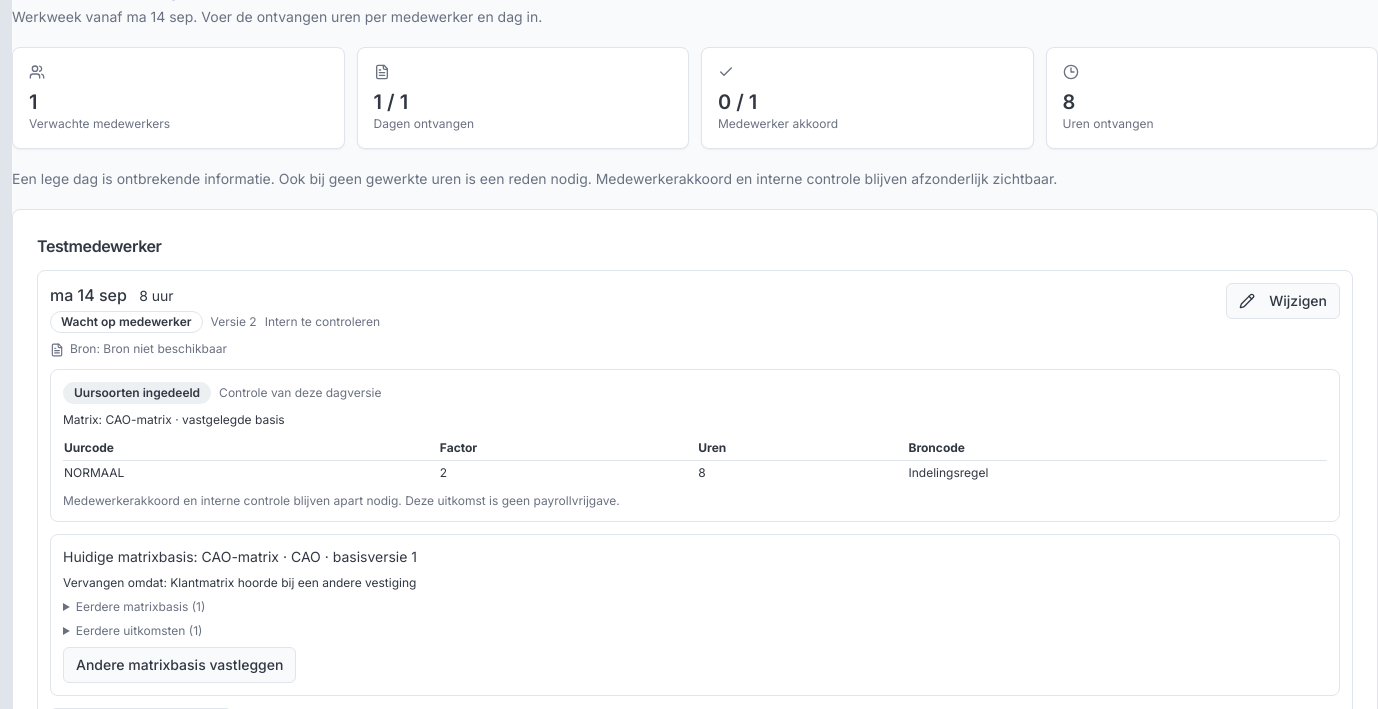
replacing the basis › lets the confirmation be closed again instead of blocking the panel
Click the button "Andere matrixbasis vastleggen" at (180, 665), box [63,647,296,683]
(page scrolled)
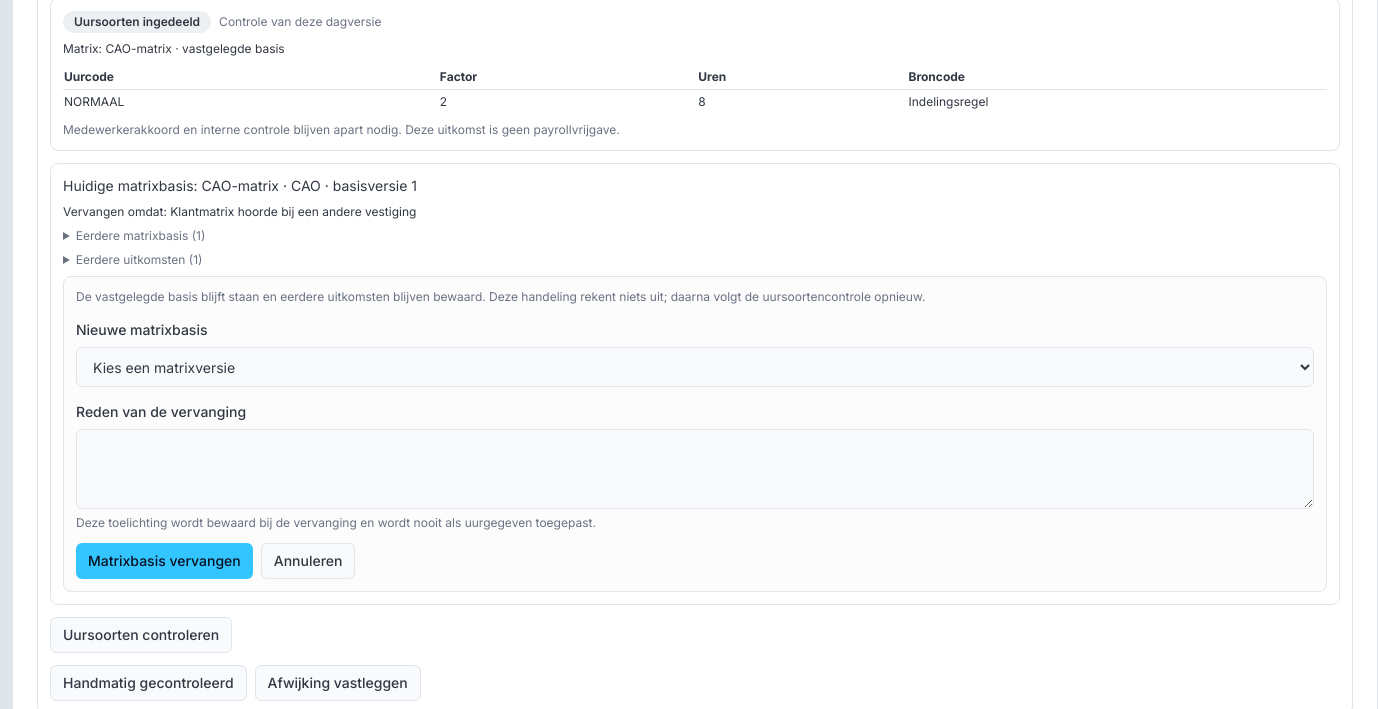
expect the dropdown labelled "Nieuwe matrixbasis" is shown: met
Select "Klantmatrix · klantmatrix · vanaf 2026-01-01" in the dropdown labelled "Nieuwe matrixbasis" at (695, 367), box [76,347,1314,387]
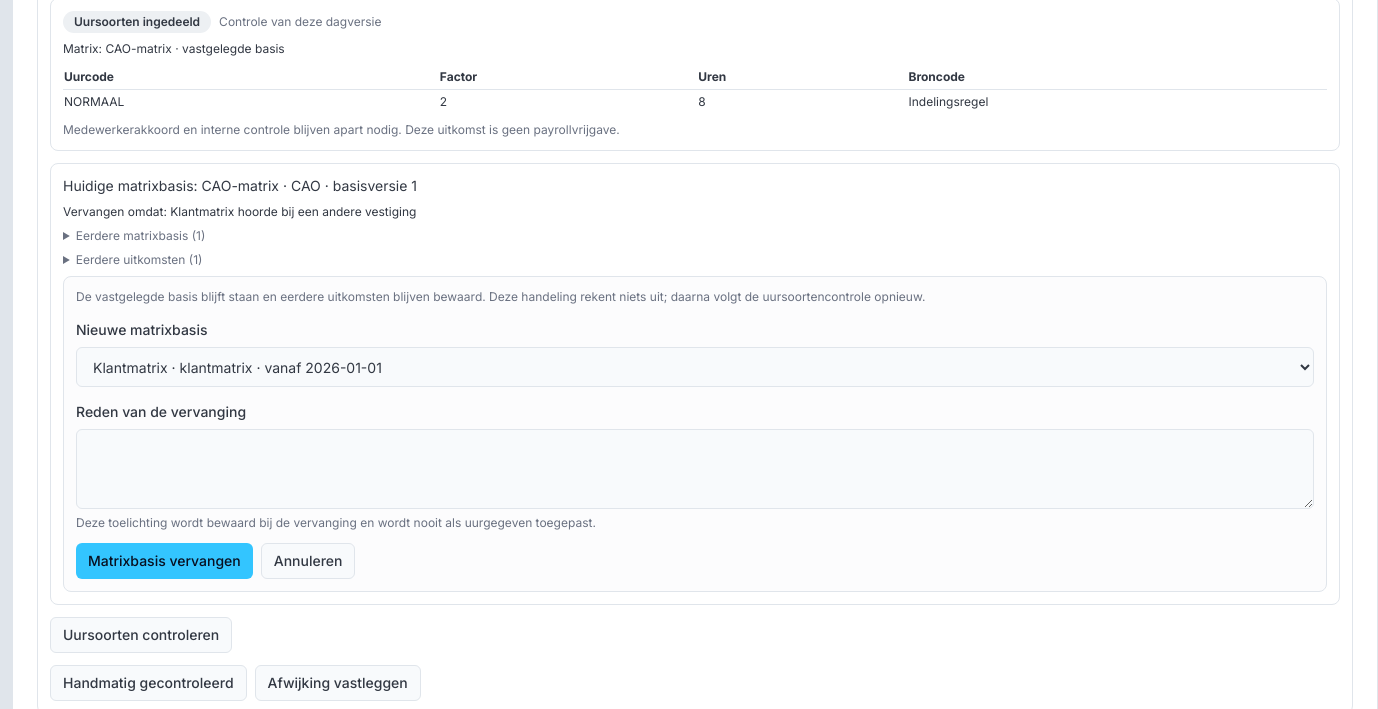
Type "Verkeerde matrix" into the text box labelled "Reden van de vervanging" at (695, 469), box [76,429,1314,509]
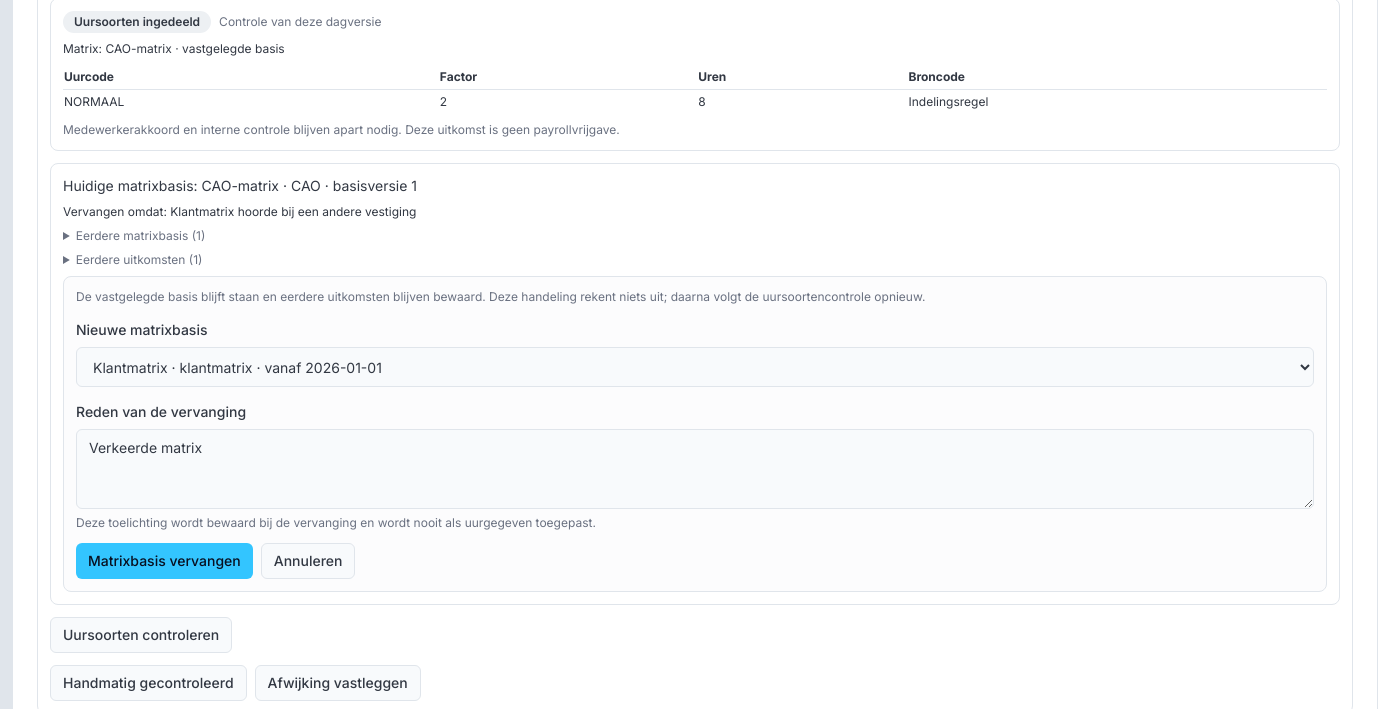
Click the button "Matrixbasis vervangen" at (164, 561), box [76,543,253,579]
(page scrolled)
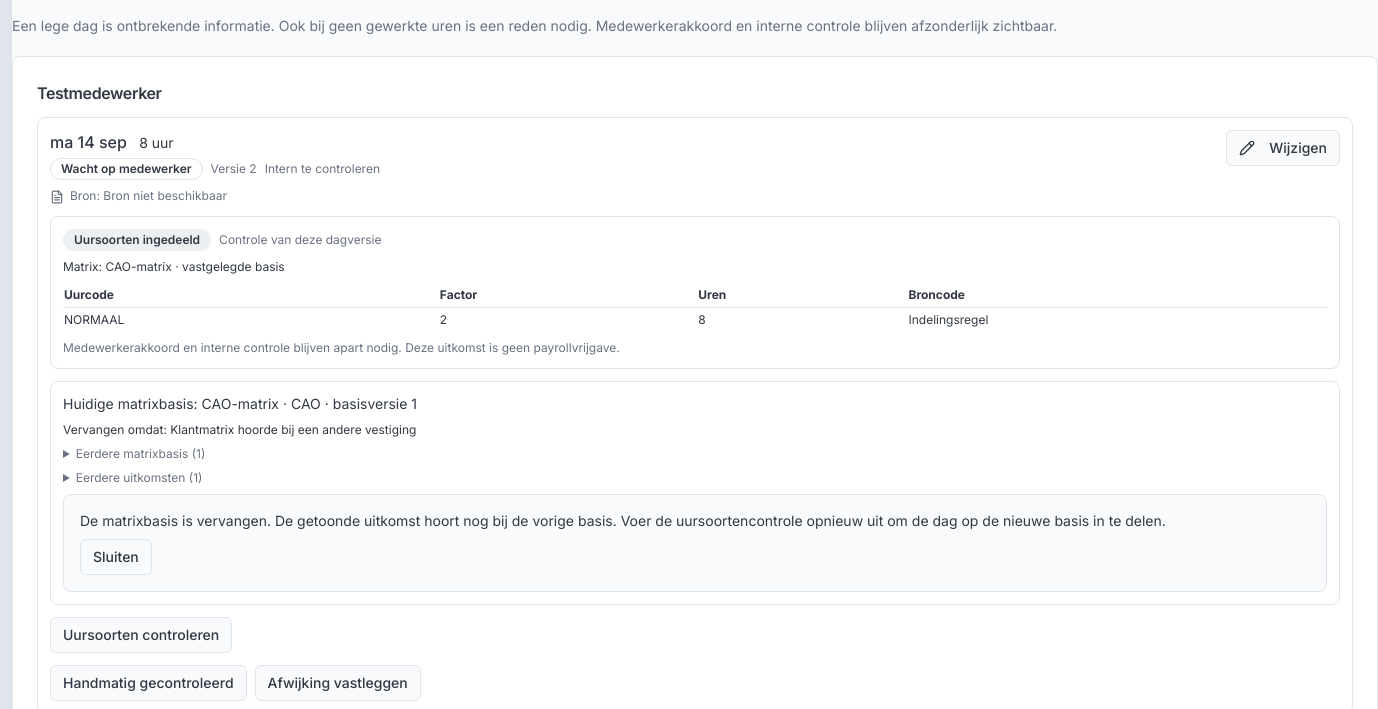
expect the text "Voer de uursoortencontrole opnieuw uit" is shown: met, box [80,512,1166,529]
Click the button "Sluiten" at (116, 557), box [80,539,152,575]
(page scrolled)
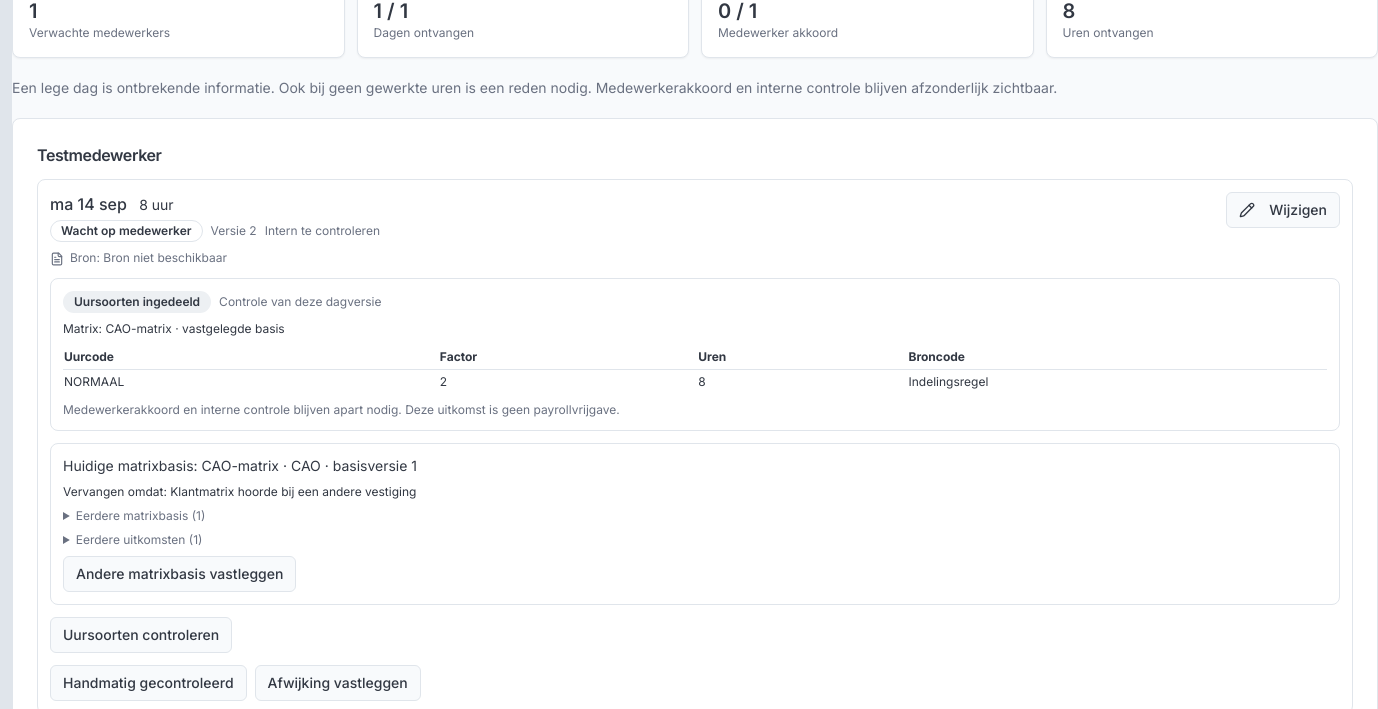
expect the button "Andere matrixbasis vastleggen" is enabled: met, box [63,556,296,592]
expect the text "Voer de uursoortencontrole opnieuw uit" is gone: met
